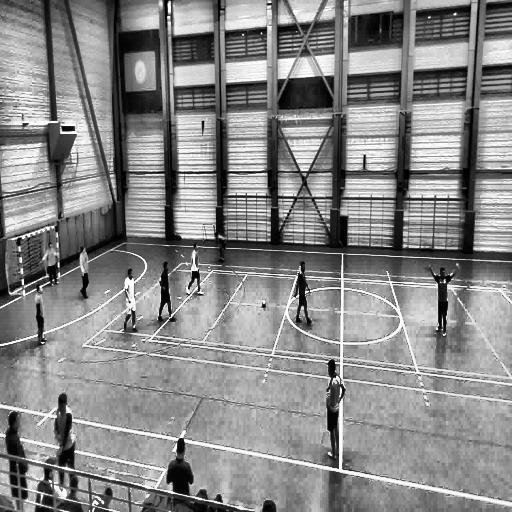ball: (261, 299, 266, 307)
player: (426, 262, 460, 338), (323, 356, 345, 461), (5, 413, 28, 511), (54, 392, 75, 487), (292, 260, 309, 325), (159, 262, 176, 323), (32, 280, 46, 345), (124, 268, 138, 332), (187, 244, 203, 294), (42, 242, 59, 286), (79, 245, 89, 298), (215, 232, 226, 263)
